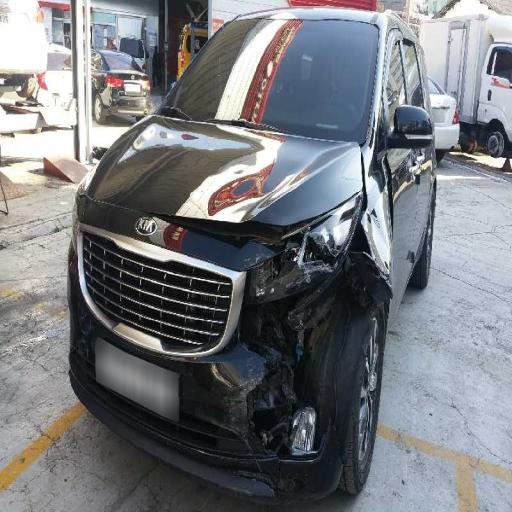dent: (205, 228, 343, 484)
